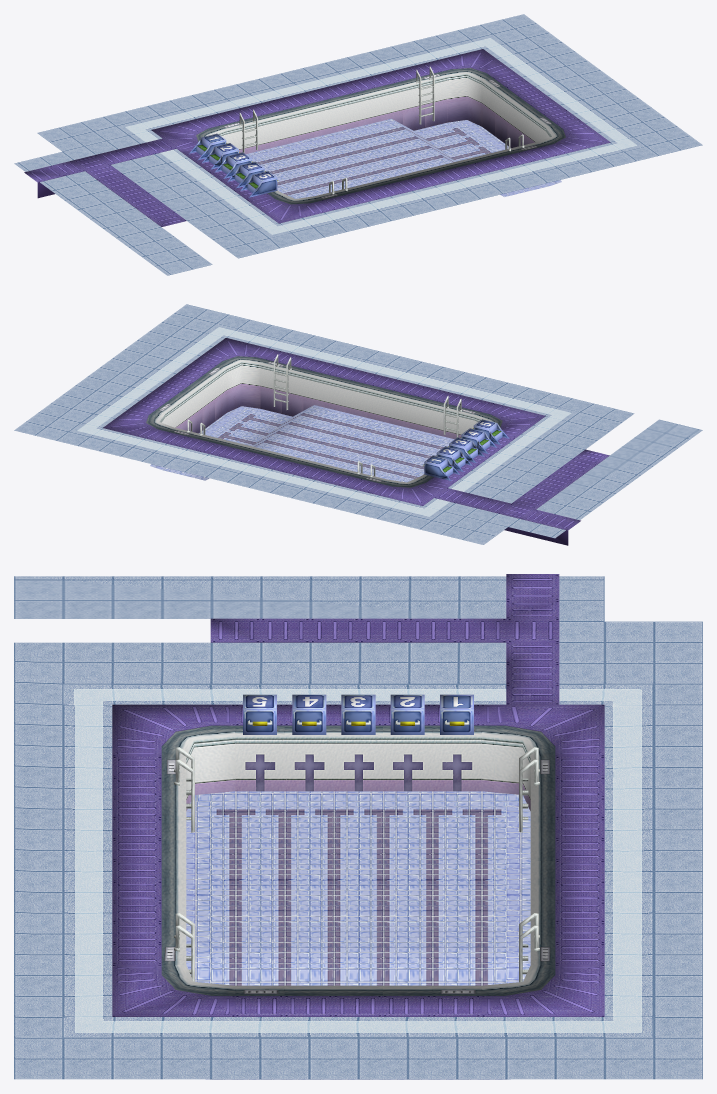
Rendered from a_SEpool01.glb.
3 renders of one model, top to bottom at view 1: azimuth 30°, elevation 25°; view 2: azimuth 150°, elevation 25°; view 3: azimuth 270°, elevation 25°, orthographic. The views are drawn at different scales.
Parts seen in each view (by area): view 1: a_SEpool01; view 2: a_SEpool01; view 3: a_SEpool01.
Boxes of the visible parts, x1,y1,x2,y2 form: a_SEpool01: (14,14,702,275); a_SEpool01: (14,304,702,545); a_SEpool01: (14,574,702,1079).
Size of the model in its own units: 24.28 by 2.61 by 14.
Materials: 7 (7 with a texture image).
